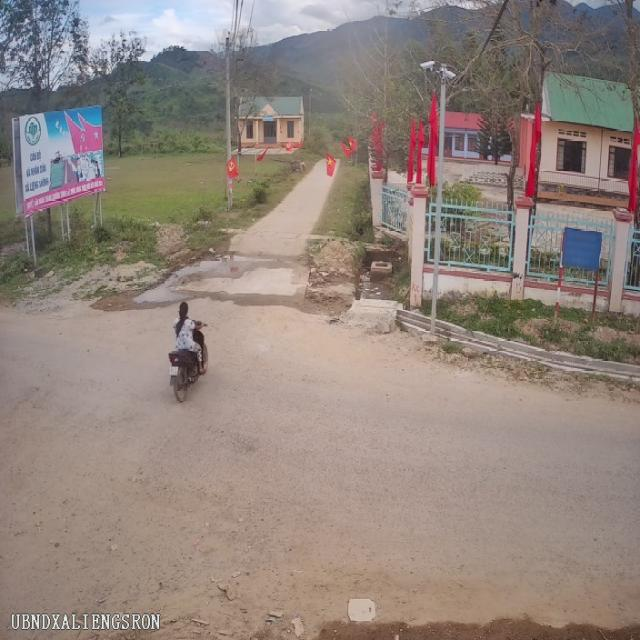no_helmet: (173, 298, 197, 320)
